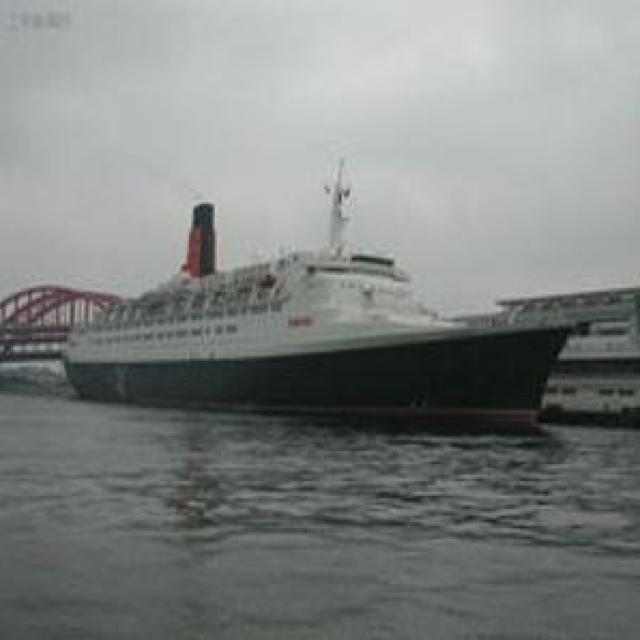passenger ship: (56, 156, 569, 426)
